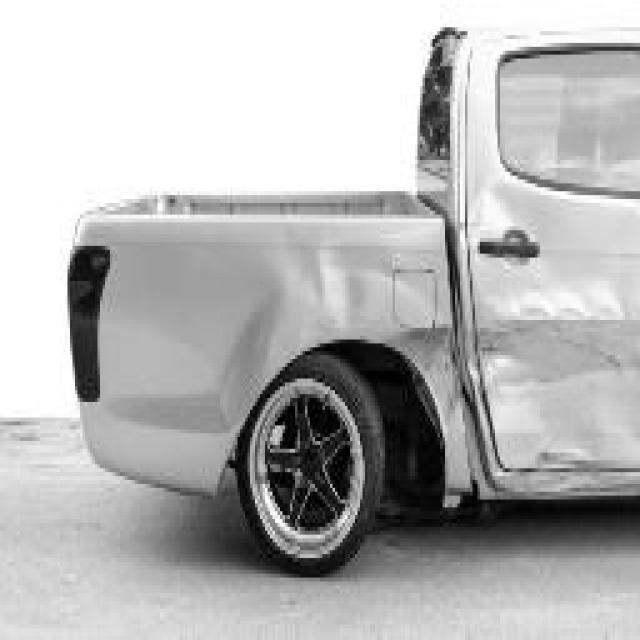Door: (470, 137, 640, 550)
Fender: (100, 220, 483, 520)
